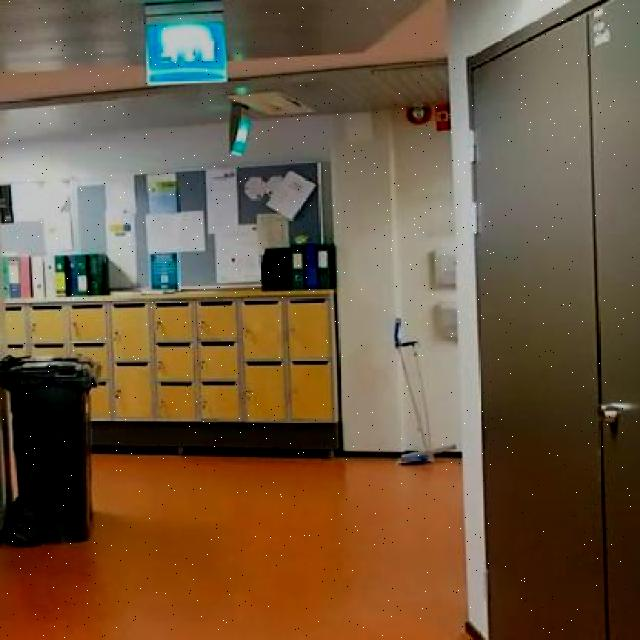emergency_exit: (143, 12, 229, 86)
